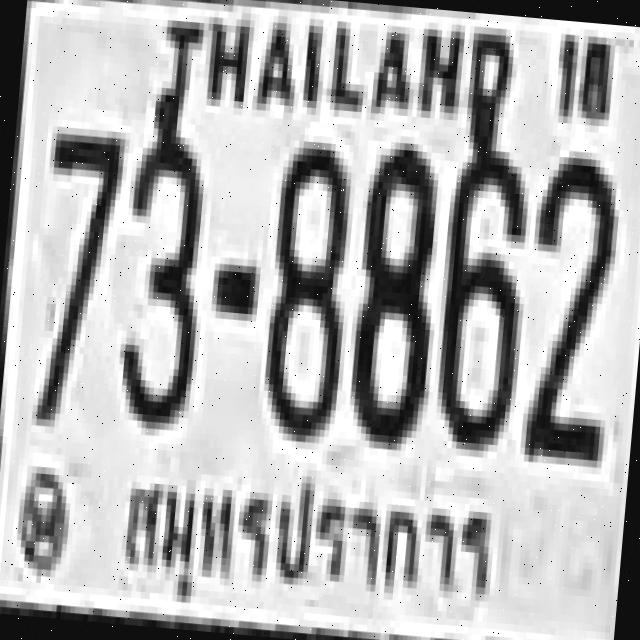2: (519, 148, 621, 440)
3: (110, 120, 212, 424)
6: (428, 137, 532, 449)
7: (27, 125, 121, 424)
8: (255, 132, 354, 437), (342, 140, 441, 444)
SamutPrakan: (107, 458, 509, 632)
